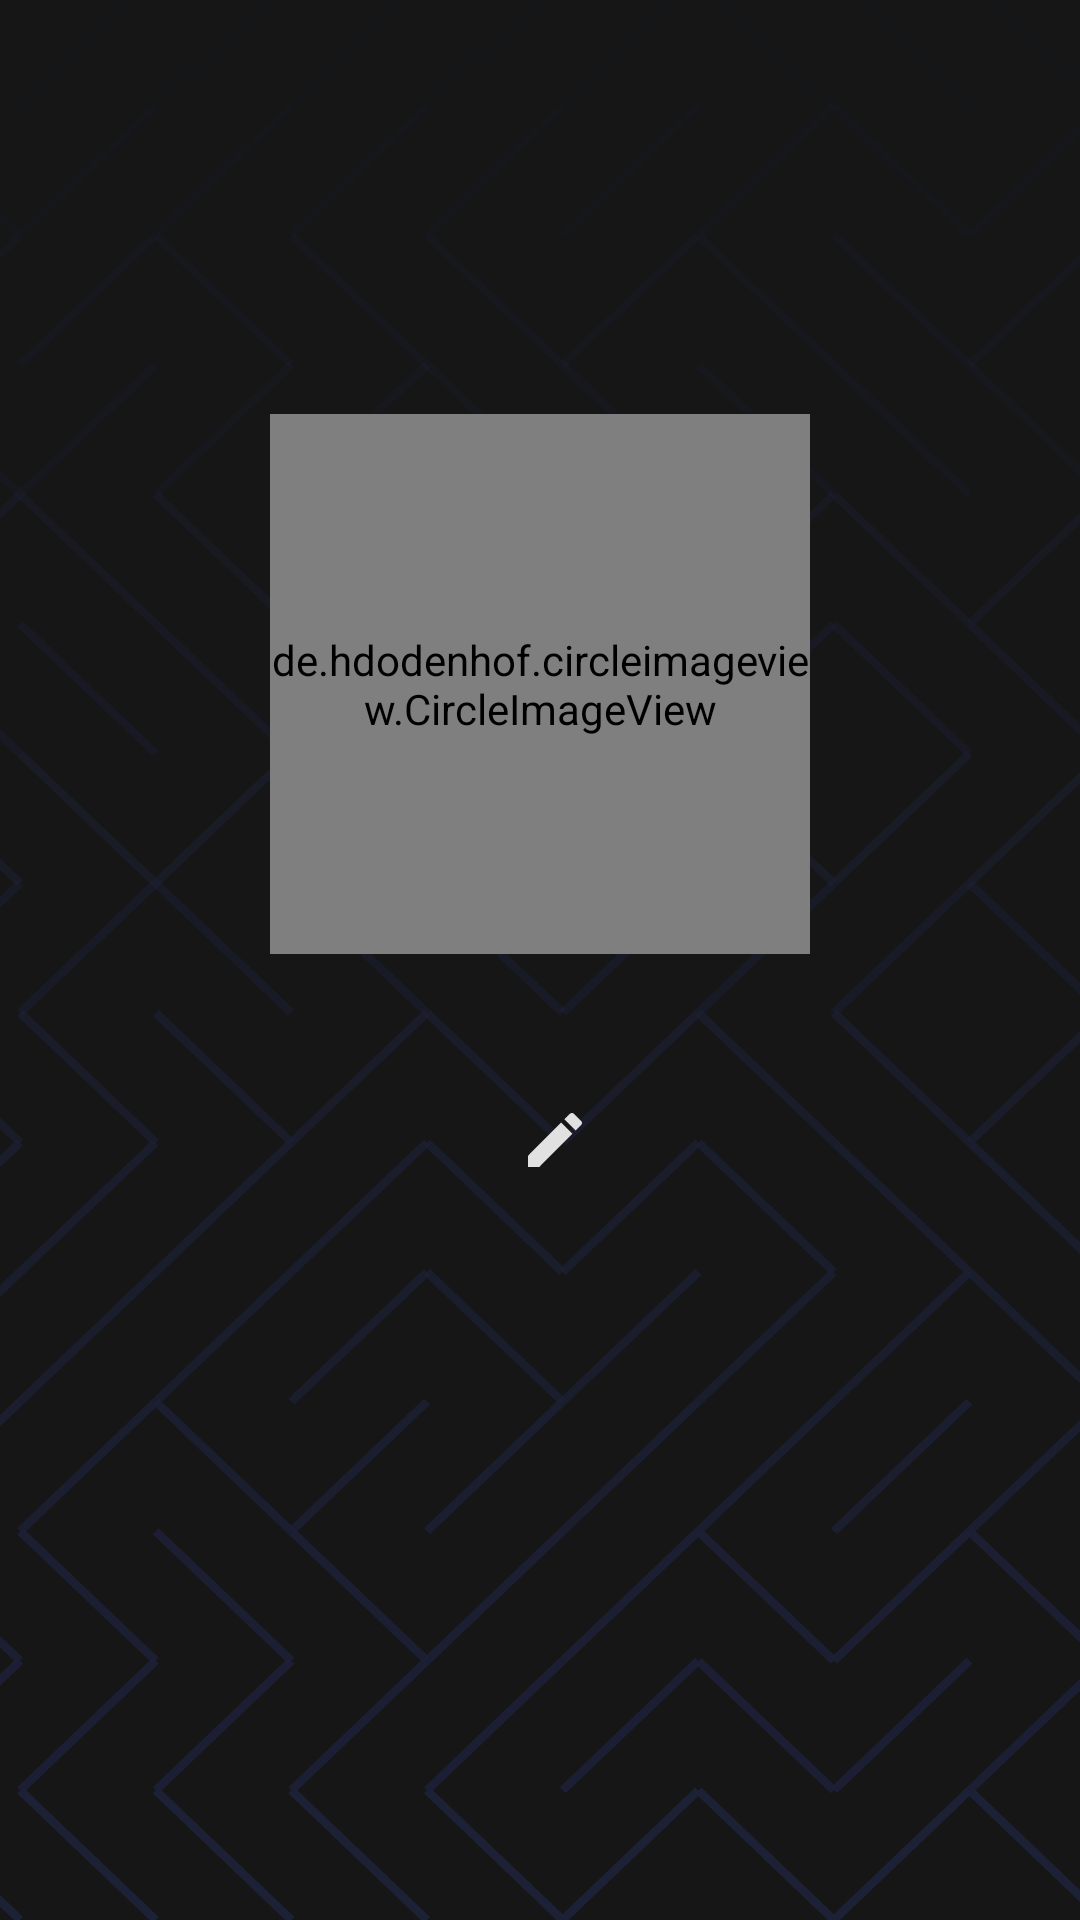

Icon bounding boxes for this 1080×1920 phone screenshot, format (x1, y1, x2, y2):
edit: (528, 1113, 582, 1167)
